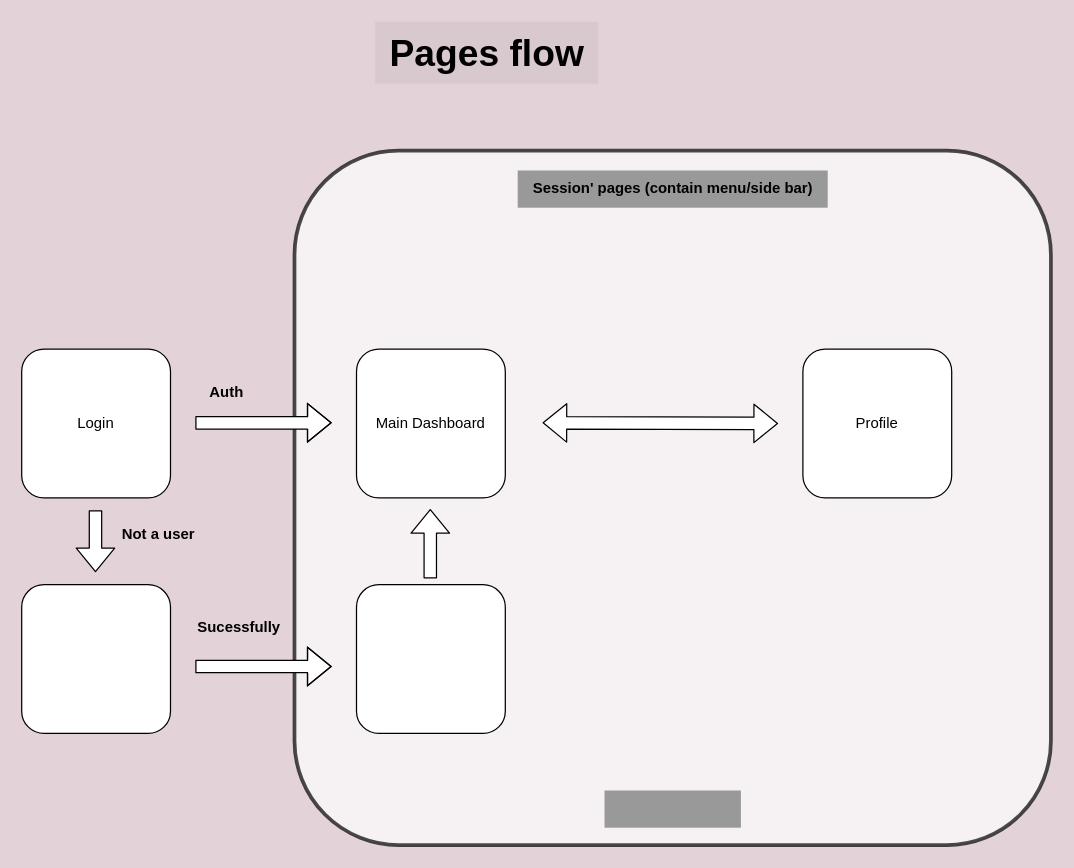
The diagram is 1074 pixels wide and 868 high, and some of its shapes have lost their labels. Each missing label, with the centre of its shape:
"pages in /app/*" belongs at pixel 672 808.
"Sign in" belongs at pixel 95 658.
"Welcome Page" belongs at pixel 430 658.
